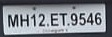character: (7, 13, 18, 27), (19, 13, 29, 27), (49, 12, 58, 26), (58, 12, 67, 26), (69, 12, 77, 26), (93, 11, 101, 25), (37, 13, 45, 26), (78, 12, 86, 25), (85, 12, 93, 25), (30, 13, 36, 27)
